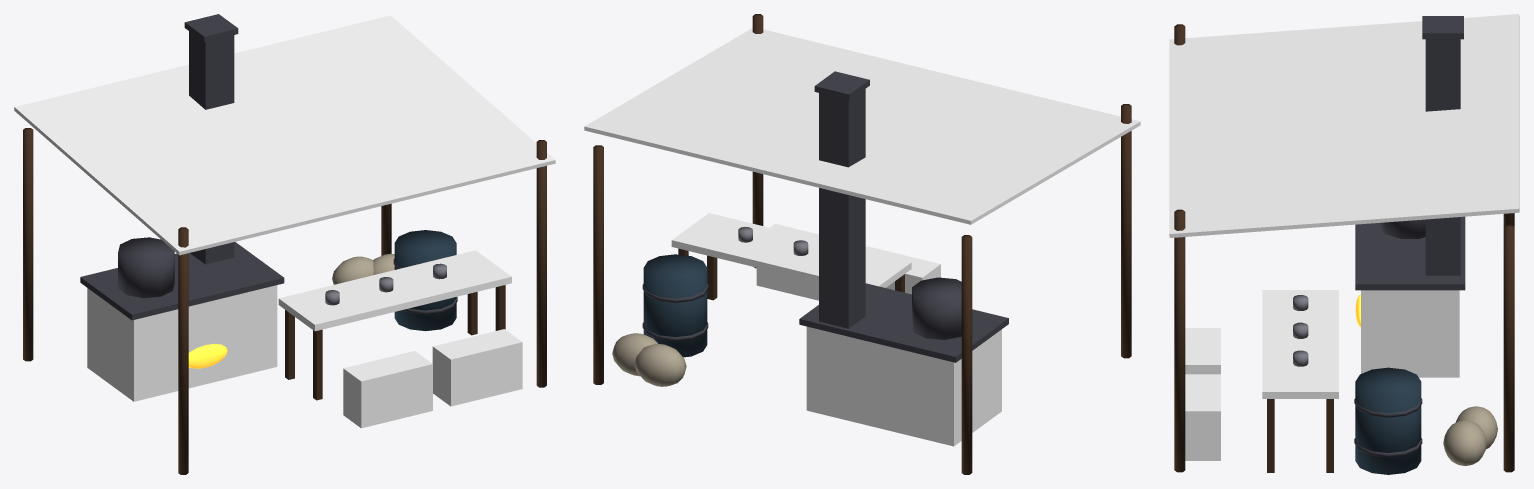
The model's file is kuchnia.glb.
3 views of the same model, side by side, from view 1: azimuth 30°, elevation 25°; view 2: azimuth 150°, elevation 25°; view 3: azimuth 270°, elevation 25° (orthographic). The views are drawn at different scales.
Visible parts, largest first — view 1: kuchnia_5, kuchnia_6, kuchnia_14, kuchnia_7, kuchnia_23, kuchnia_22, kuchnia_12, kuchnia_26, kuchnia_8, kuchnia_1, kuchnia_3, kuchnia_2 (+5 smaller); view 2: kuchnia_5, kuchnia_6, kuchnia_12, kuchnia_14, kuchnia_7, kuchnia_26, kuchnia_8, kuchnia_2, kuchnia_1, kuchnia_4, kuchnia_25, kuchnia_23 (+4 smaller); view 3: kuchnia_5, kuchnia_6, kuchnia_14, kuchnia_26, kuchnia_7, kuchnia_12, kuchnia_23, kuchnia_3, kuchnia_4, kuchnia_22, kuchnia_24, kuchnia_13 (+6 smaller).
Part boxes in pixels (x1,y1,x2,y2): kuchnia_5: [14, 15, 555, 255]; kuchnia_6: [87, 285, 277, 401]; kuchnia_14: [278, 250, 511, 331]; kuchnia_7: [80, 242, 284, 320]; kuchnia_23: [432, 329, 522, 406]; kuchnia_22: [343, 351, 432, 428]; kuchnia_12: [189, 31, 234, 264]; kuchnia_26: [394, 230, 456, 331]; kuchnia_8: [118, 237, 174, 298]; kuchnia_1: [178, 227, 188, 474]; kuchnia_3: [536, 140, 546, 387]; kuchnia_2: [23, 128, 33, 361]; kuchnia_5: [584, 28, 1140, 224]; kuchnia_6: [806, 326, 1001, 446]; kuchnia_12: [819, 89, 865, 328]; kuchnia_14: [671, 213, 911, 287]; kuchnia_7: [799, 283, 1008, 362]; kuchnia_26: [643, 254, 707, 357]; kuchnia_8: [912, 277, 961, 339]; kuchnia_2: [961, 235, 972, 474]; kuchnia_1: [1121, 104, 1131, 358]; kuchnia_4: [593, 145, 603, 384]; kuchnia_25: [634, 344, 686, 386]; kuchnia_23: [756, 223, 818, 300]; kuchnia_5: [1169, 14, 1519, 237]; kuchnia_6: [1361, 290, 1459, 377]; kuchnia_14: [1262, 290, 1338, 398]; kuchnia_26: [1355, 367, 1421, 474]; kuchnia_7: [1355, 216, 1465, 290]; kuchnia_12: [1425, 39, 1460, 275]; kuchnia_23: [1185, 374, 1220, 460]; kuchnia_3: [1174, 209, 1185, 472]; kuchnia_4: [1503, 224, 1514, 472]; kuchnia_22: [1185, 328, 1220, 374]; kuchnia_24: [1443, 420, 1486, 465]; kuchnia_13: [1422, 16, 1463, 39].
Bounding box in the file's own units: 4.21 × 3.43 × 3.19.
